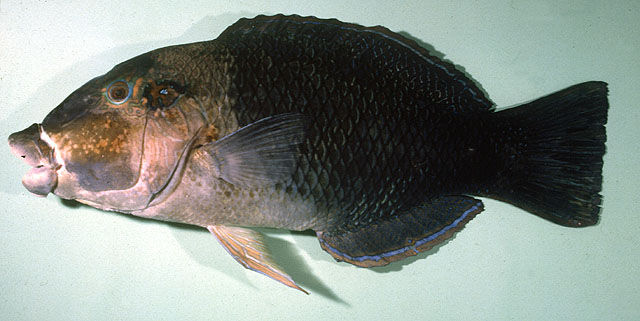fish: (7, 14, 611, 296)
